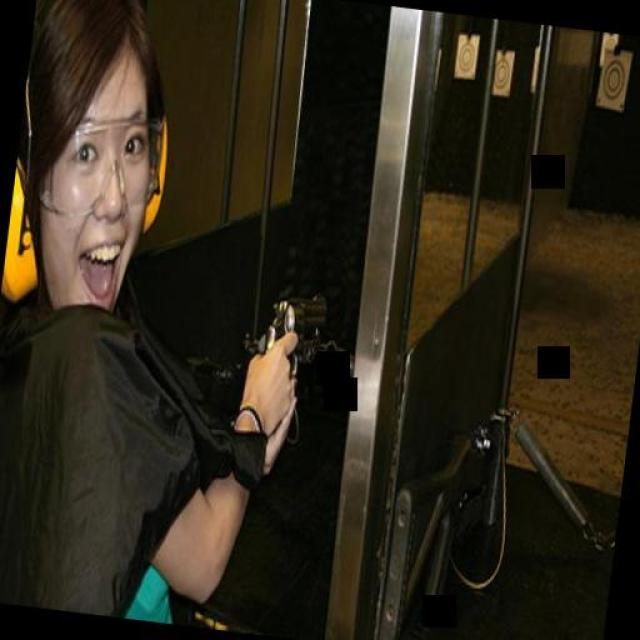gun: (254, 280, 328, 398)
